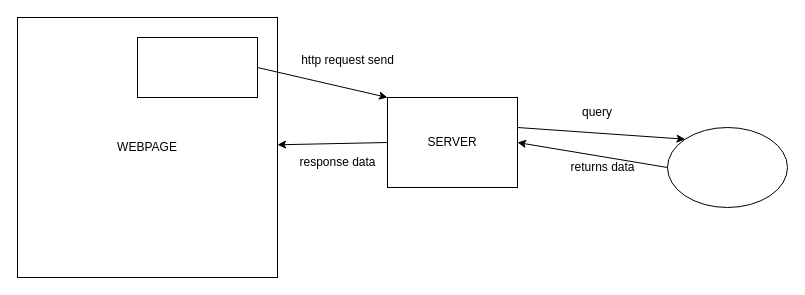
The diagram is 805 pixels wide and 295 high, and some of its shapes have lost their labels. The centre of each missing label's shape, as x and y in pixels:
DATABASE: [727,167]
visualize data: [197,67]
